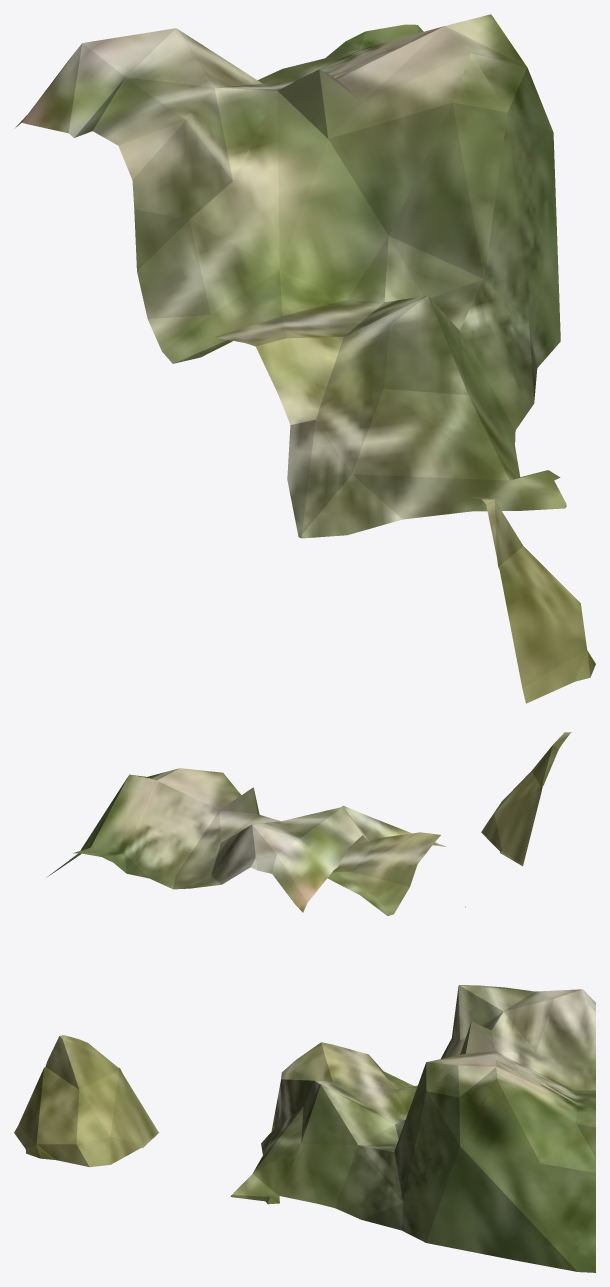
The picture shows the model from 3 angles, top to bottom: view 1: azimuth 30°, elevation 25°; view 2: azimuth 150°, elevation 25°; view 3: azimuth 270°, elevation 25°; orthographic projection. The views are drawn at different scales.
Bounding box in the file's own units: 0.8075 × 0.4536 × 1.42.
Materials: 1 (1 with a texture image).
